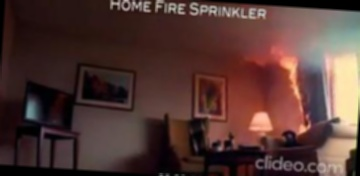fire: (261, 33, 323, 132)
